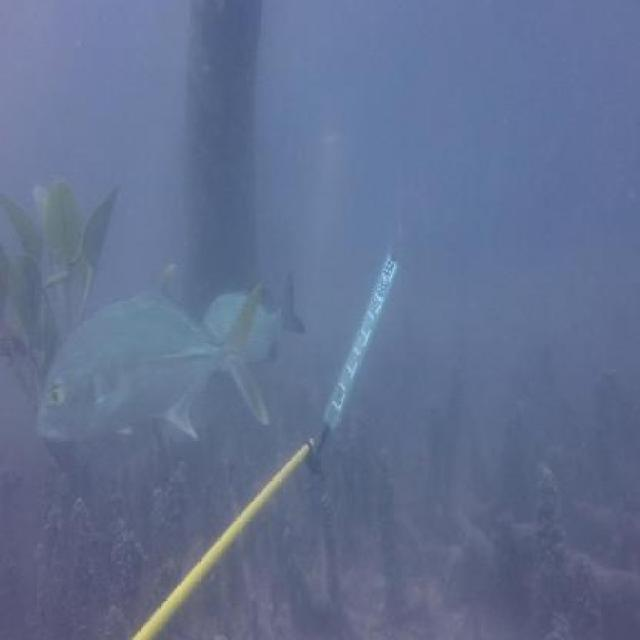Caranx: (35, 258, 268, 447)
acanthopagrus_palmaris: (204, 266, 307, 366)
